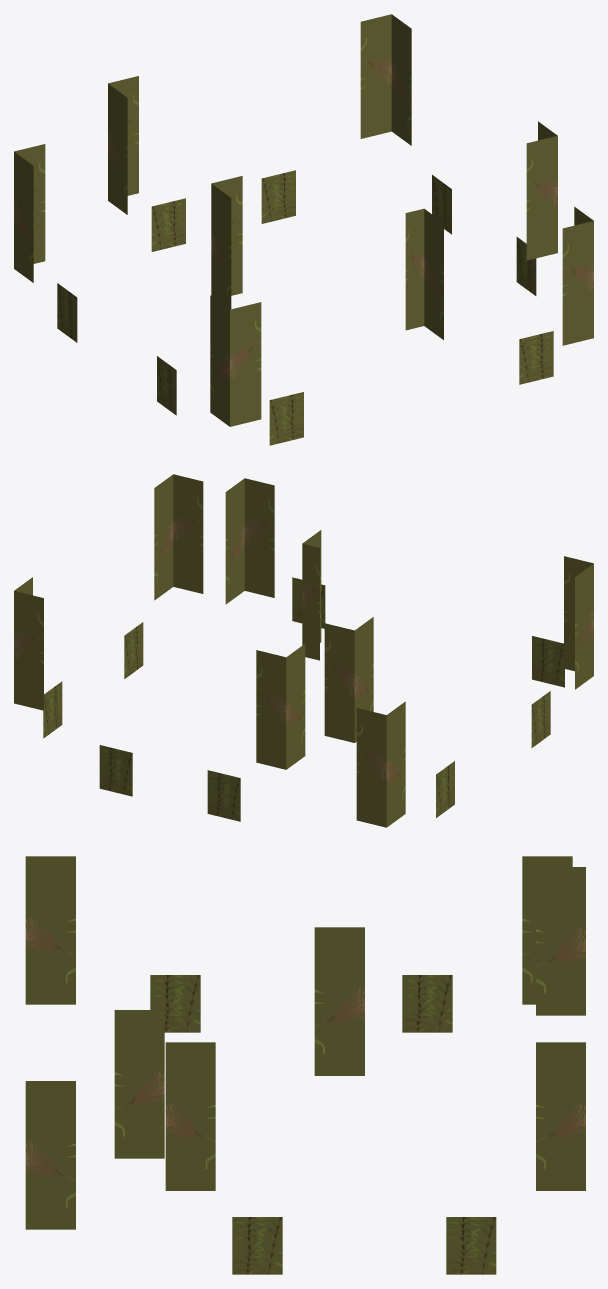
The model's file is house_2_f.dae.
3 views of the same model, one above another, from view 1: azimuth 30°, elevation 25°; view 2: azimuth 150°, elevation 25°; view 3: azimuth 270°, elevation 25° (orthographic). The views are drawn at different scales.
Visible parts, largest first — view 1: house_2_f; view 2: house_2_f; view 3: house_2_f.
Part boxes in pixels (x1=…): house_2_f: x1=14, y1=14, x2=593, y2=445; house_2_f: x1=14, y1=474, x2=593, y2=827; house_2_f: x1=25, y1=856, x2=585, y2=1274.
Bounding box in the file's own units: 12.24 × 12.4 × 5.41.
Materials: 1 (1 with a texture image).
